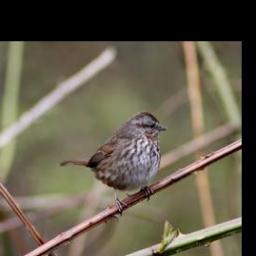Sparrow: (56, 108, 170, 217)
